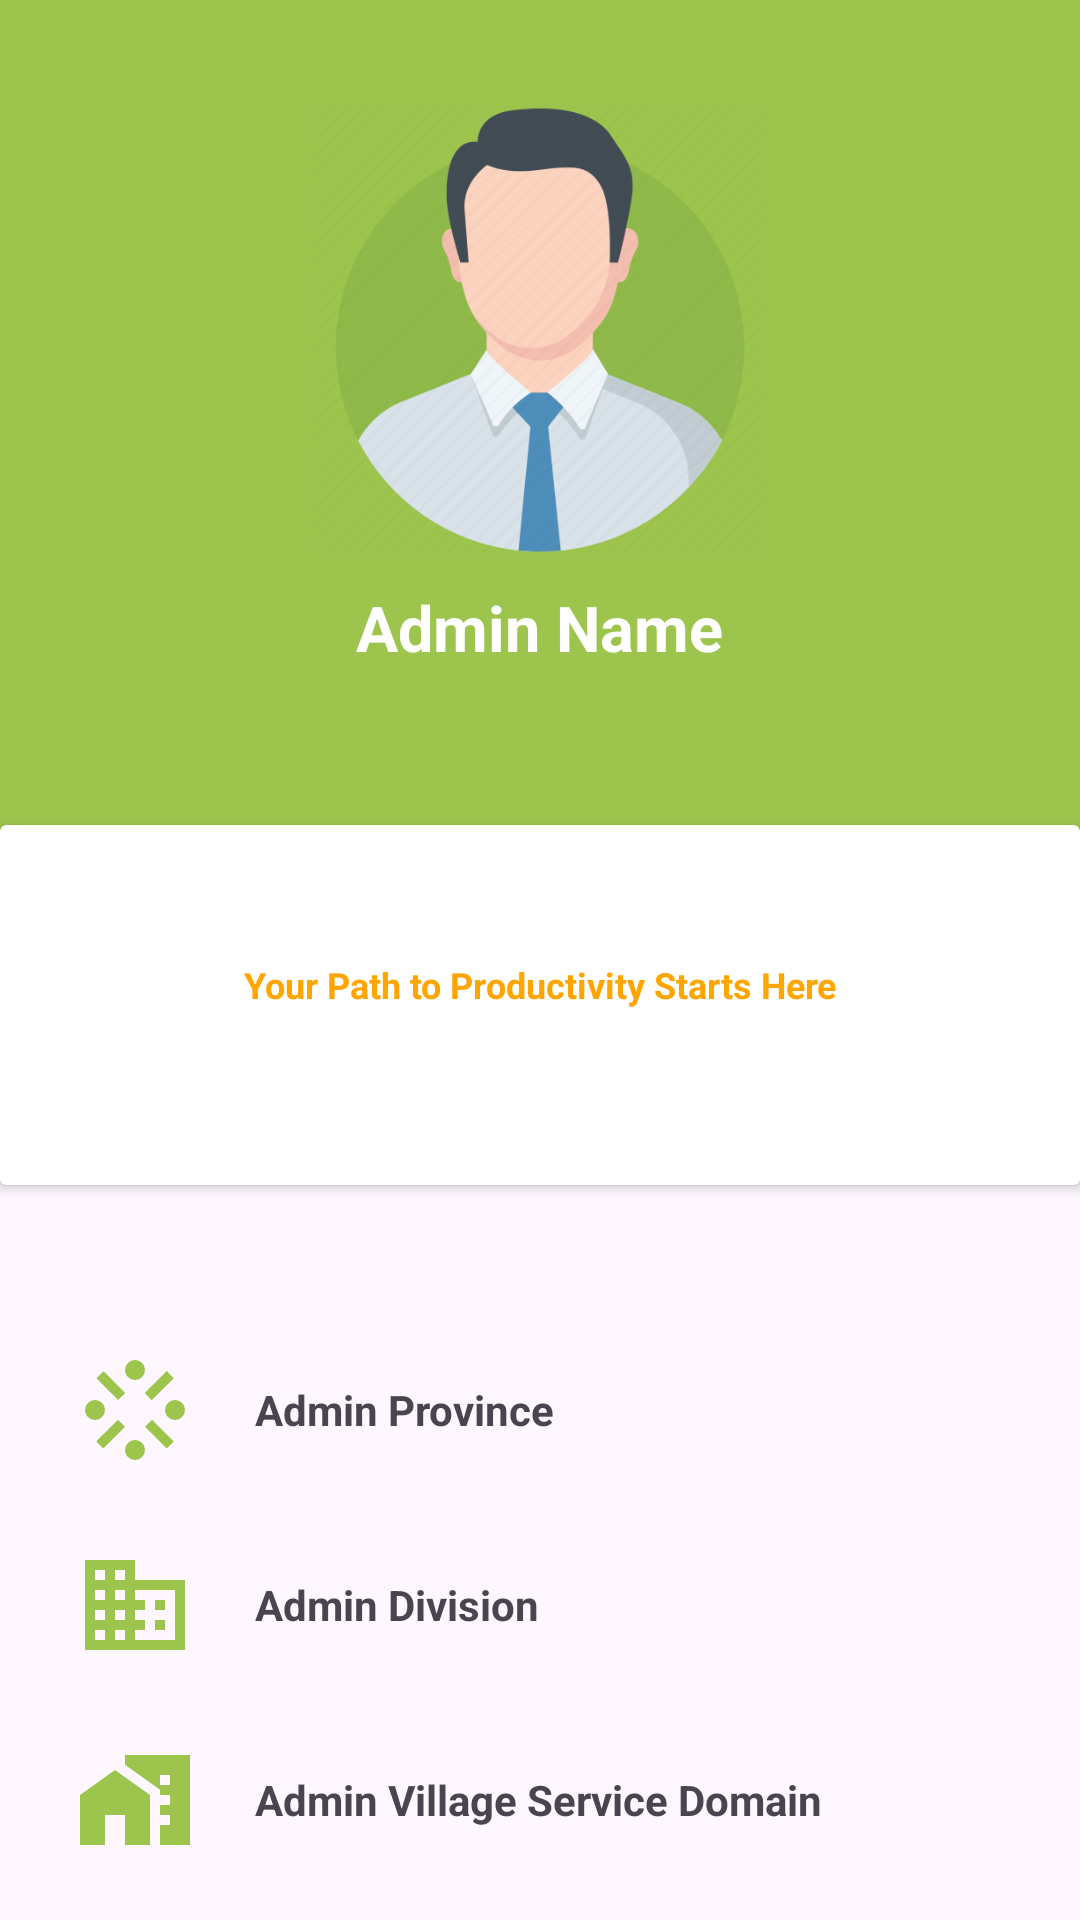

Screen size 1080px x 1920px. Icon name, then its box in pixels as {"x1": x1, "y1": y1, "x2": x2, "y2": y2}:
home work: {"x1": 80, "y1": 1755, "x2": 190, "y2": 1845}
